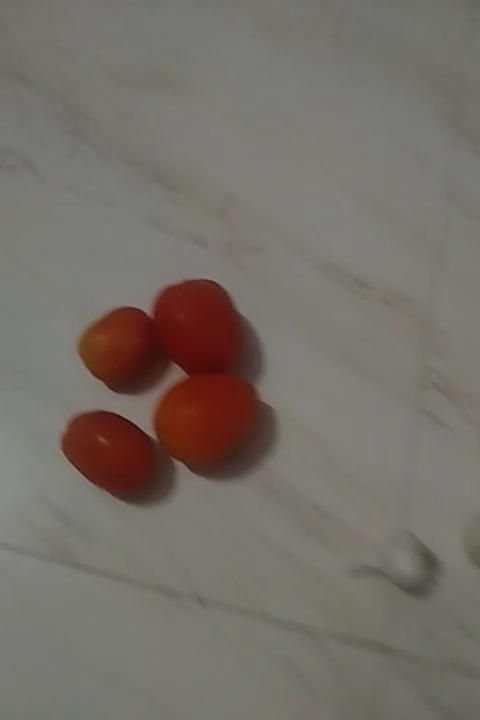garlic: (355, 535, 439, 596)
tomato: (154, 277, 261, 372), (60, 411, 170, 502), (159, 383, 268, 468), (78, 303, 154, 384)
